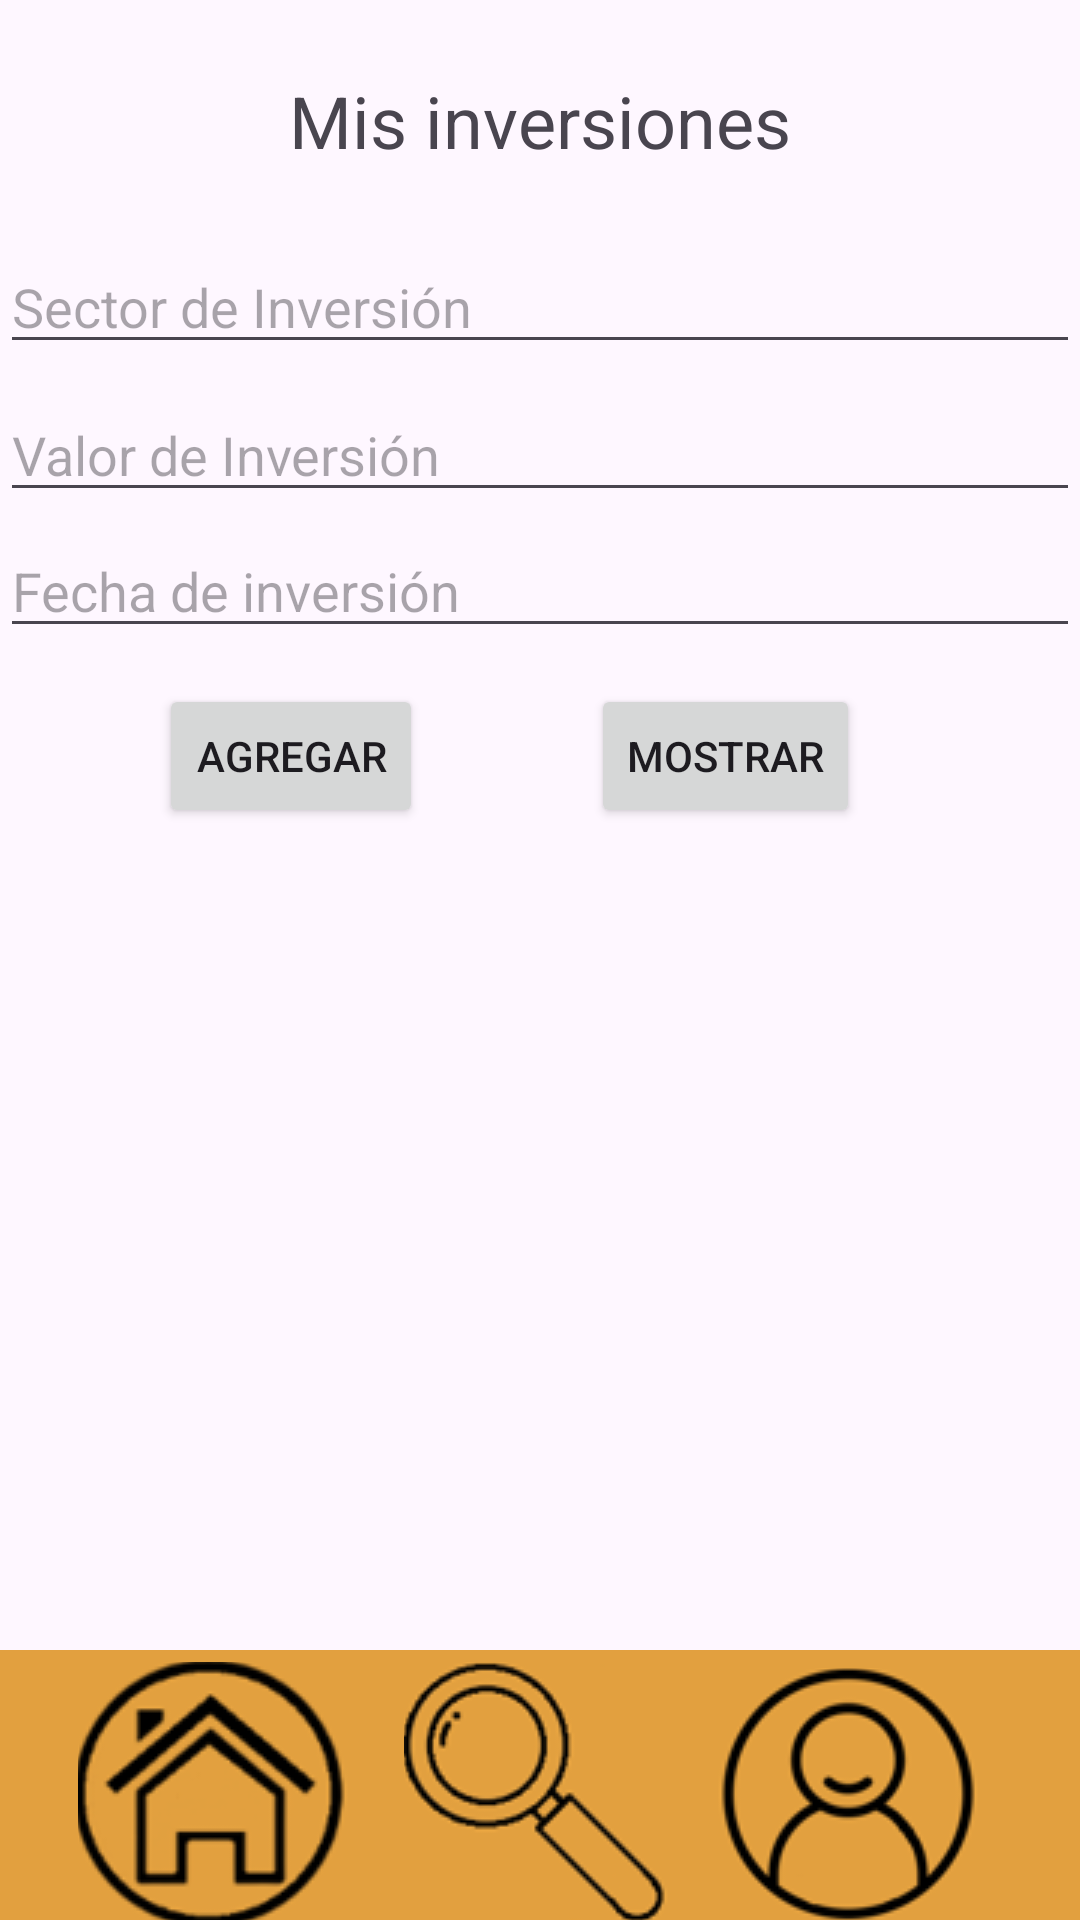

Icon click points for this 1080 × 1920 phone screenshot, format point (x, y):
home: point (211, 1791)
lupa: point (534, 1791)
perfil: point (848, 1794)
